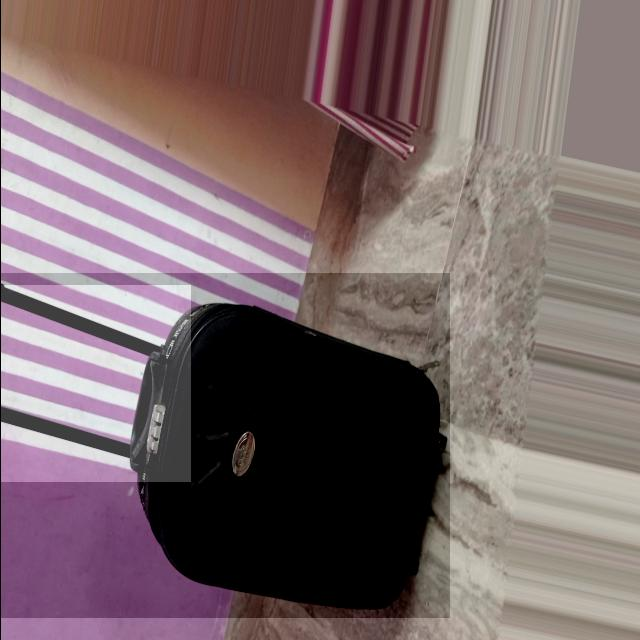Bag: (0, 279, 447, 612)
Handle: (0, 291, 170, 486)
